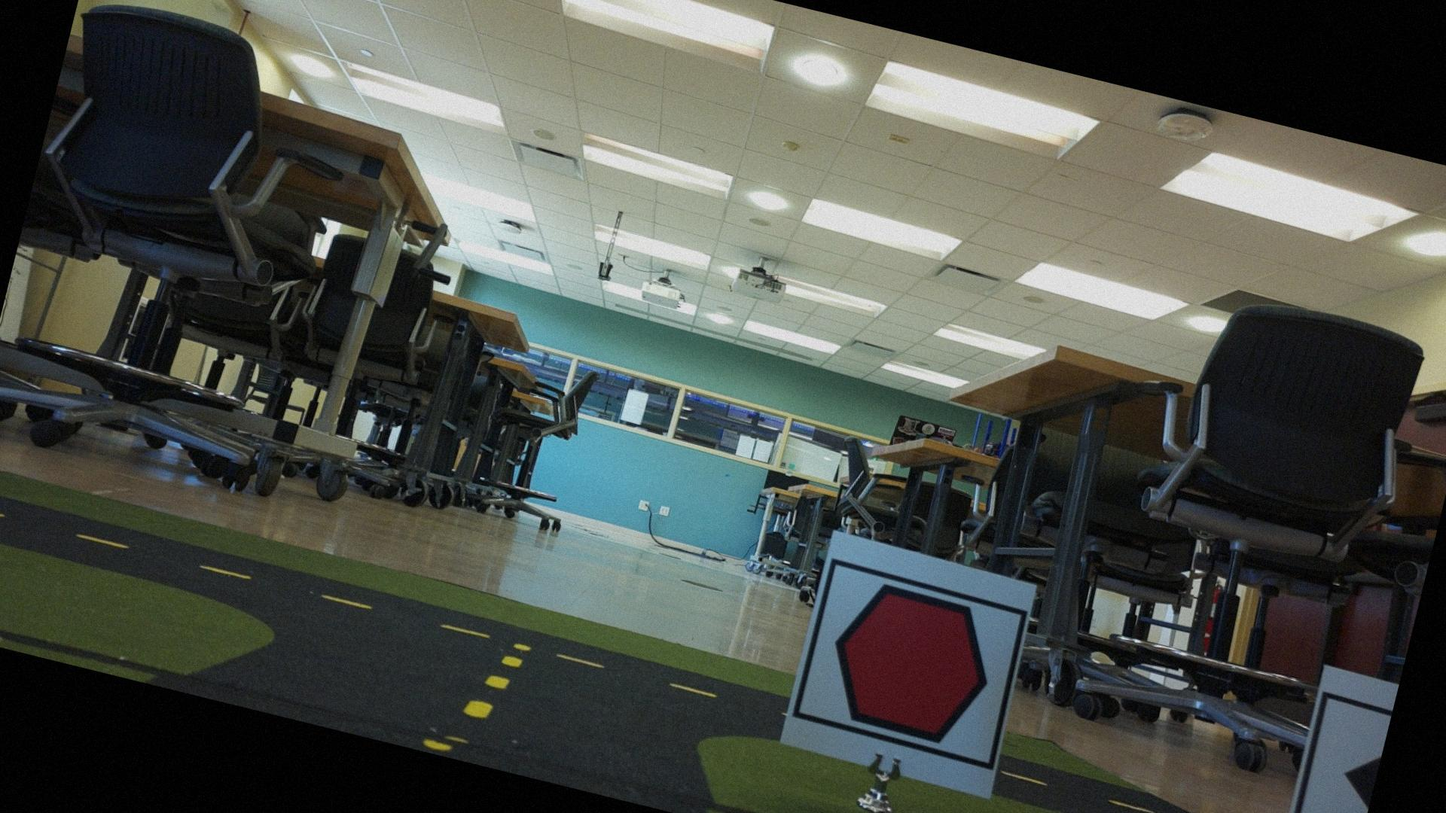stop: (801, 566, 1022, 764)
yellowline: (461, 630, 528, 727)
